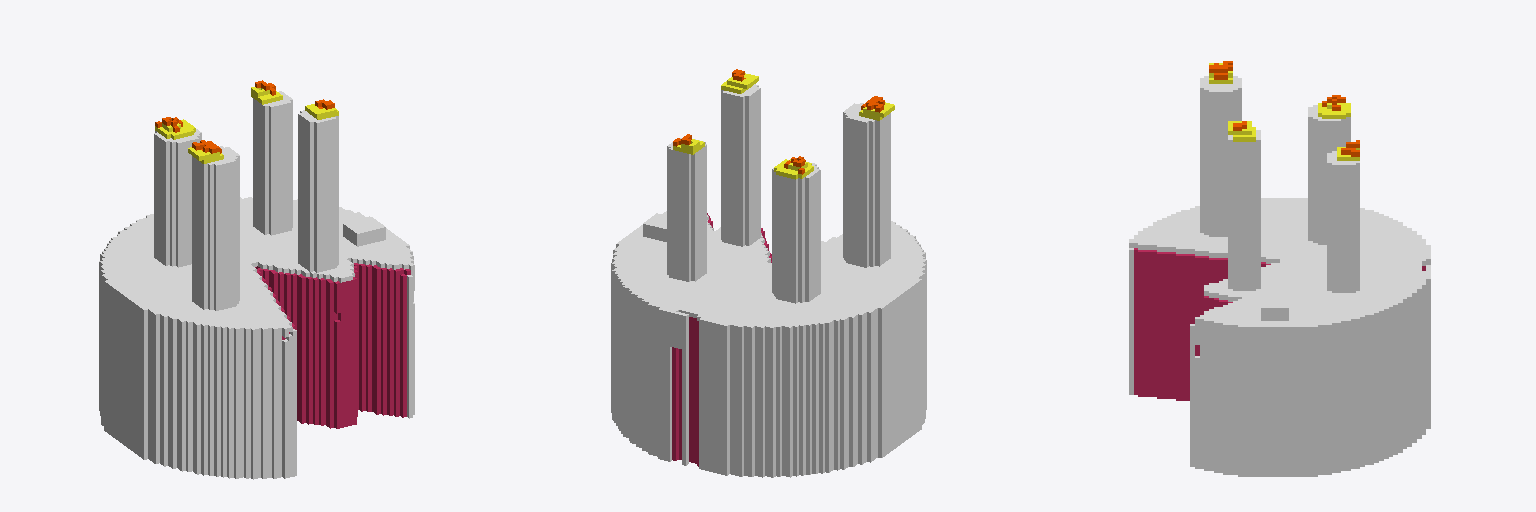
The picture shows the model from 3 angles: view 1: azimuth 30°, elevation 25°; view 2: azimuth 150°, elevation 25°; view 3: azimuth 270°, elevation 25°; orthographic projection.
Bounding box in the file's own units: 65 × 73 × 64.
Materials: 1 (1 with a texture image).